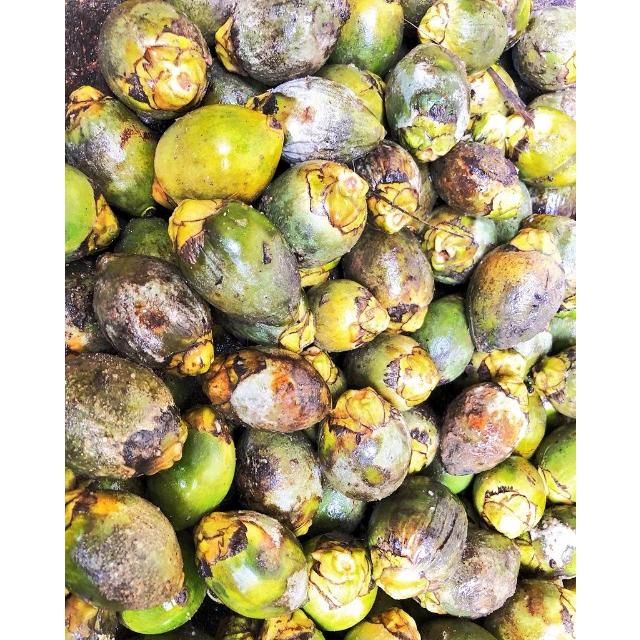damaged: (170, 202, 302, 334), (64, 489, 186, 613), (65, 356, 183, 484), (256, 160, 372, 282), (194, 510, 308, 618), (364, 476, 466, 596), (255, 76, 383, 166), (200, 346, 330, 434), (314, 388, 412, 502), (464, 239, 562, 349), (384, 42, 468, 160), (235, 428, 322, 532), (437, 381, 528, 475), (427, 527, 518, 619), (342, 333, 436, 411), (297, 535, 375, 629), (432, 140, 522, 220), (415, 0, 507, 76), (472, 454, 546, 538), (304, 277, 386, 351), (510, 107, 574, 185)
good: (98, 13, 214, 127), (149, 106, 281, 202)
